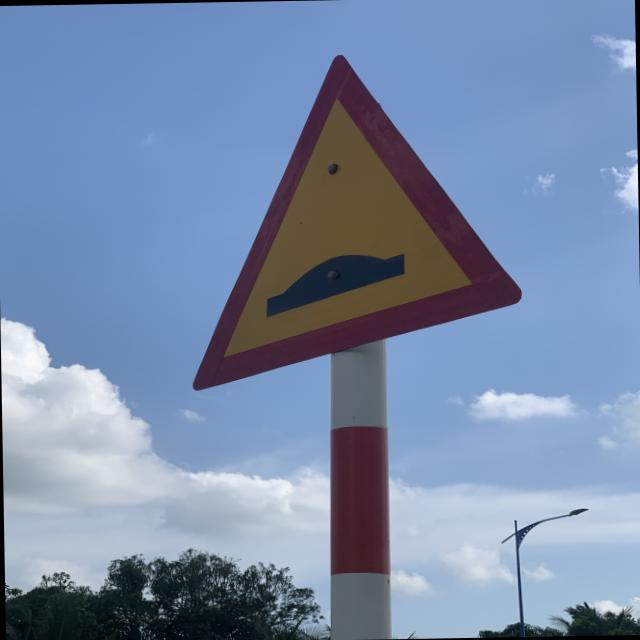Duong_Cong_Ben_Phai: (187, 50, 521, 391)
